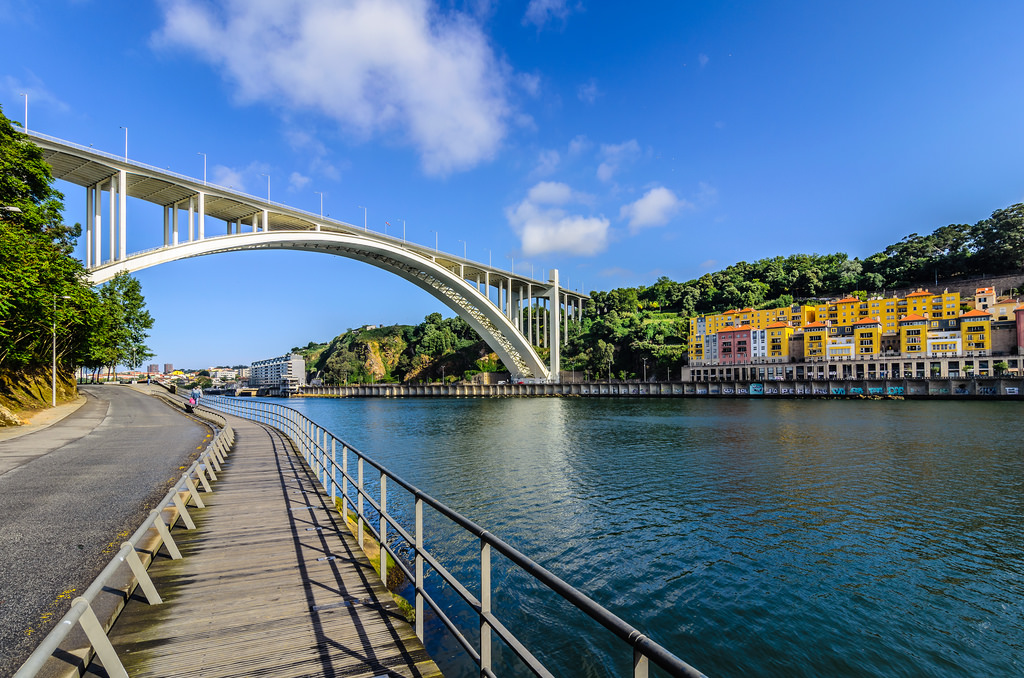arrabida: (0, 117, 594, 388)
